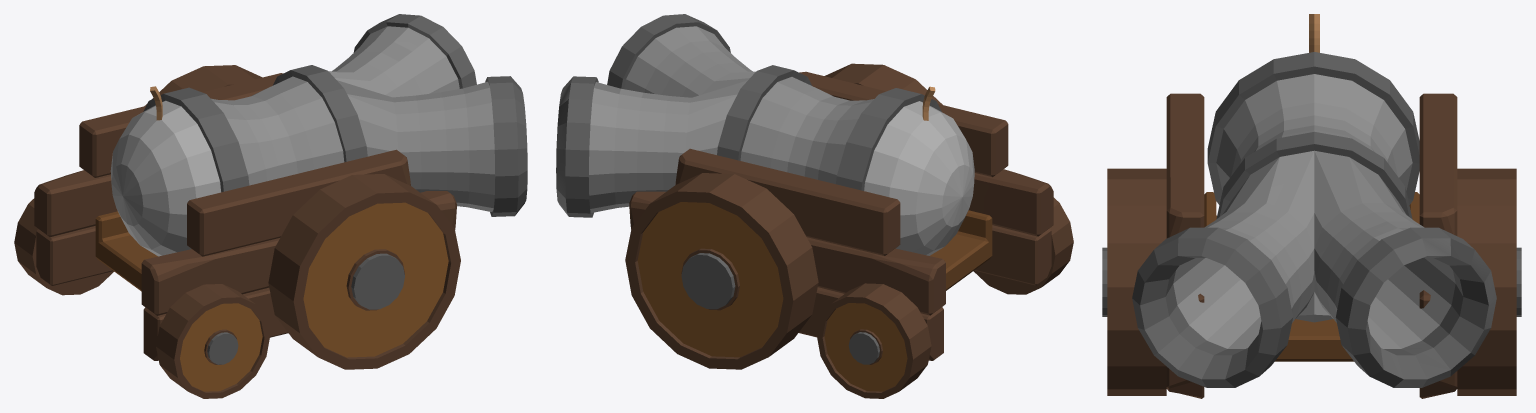
File: CannonDoble.fbx
3 views of the same model, side by side, from view 1: azimuth 30°, elevation 25°; view 2: azimuth 150°, elevation 25°; view 3: azimuth 270°, elevation 25° (orthographic). The views are drawn at different scales.
Visible parts, largest first — view 1: Wheels.001, Cannon_Front, Cannon_Platform.001, Cannon_Back; view 2: Wheels.001, Cannon_Front, Cannon_Platform.001, Cannon_Back; view 3: Cannon_Front, Wheels.001, Cannon_Platform.001, Cannon_Back.
Boxes of the visible parts, x1,y1,x2,y2 form: Wheels.001: [14, 65, 460, 398]; Cannon_Front: [143, 14, 527, 216]; Cannon_Platform.001: [34, 73, 456, 360]; Cannon_Back: [110, 86, 220, 256]; Wheels.001: [625, 63, 1073, 398]; Cannon_Front: [556, 14, 941, 217]; Cannon_Platform.001: [629, 71, 1053, 360]; Cannon_Back: [864, 86, 974, 255]; Cannon_Front: [1132, 52, 1496, 387]; Wheels.001: [1102, 168, 1521, 395]; Cannon_Platform.001: [1166, 93, 1457, 398]; Cannon_Back: [1309, 14, 1319, 52].
Size of the model in its own units: 558 by 331 by 427.
